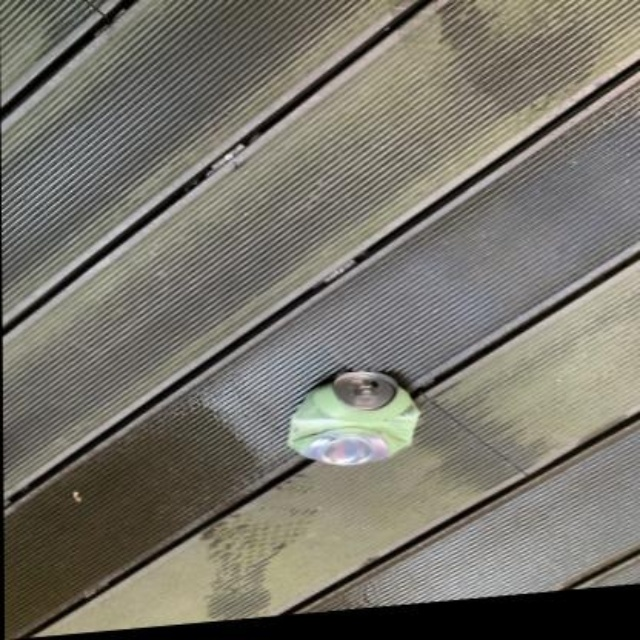trash: (289, 371, 418, 465)
